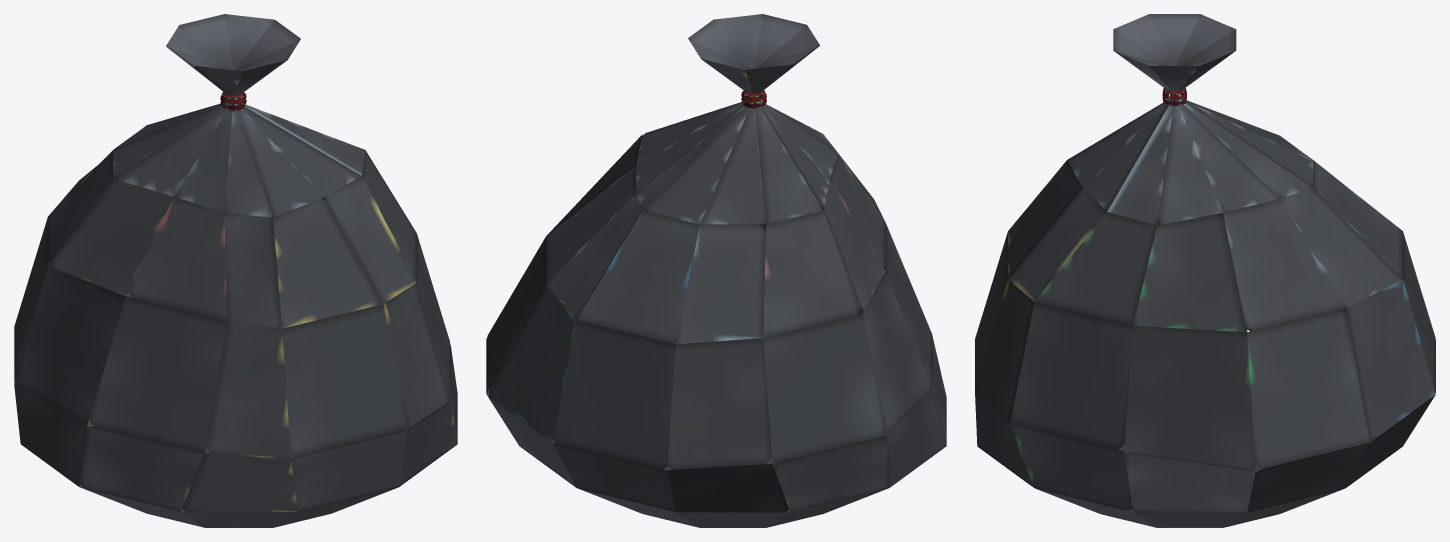
The model's file is trash_bag.obj.
The picture shows the model from 3 angles, left to right: view 1: azimuth 30°, elevation 25°; view 2: azimuth 150°, elevation 25°; view 3: azimuth 270°, elevation 25°; orthographic projection. The views are drawn at different scales.
Parts seen in each view (by area): view 1: sphere, cone; view 2: sphere, cone; view 3: sphere, cone.
Boxes of the visible parts, x1,y1,x2,y2 form: sphere: [14, 102, 457, 527]; cone: [166, 14, 300, 95]; sphere: [486, 101, 946, 527]; cone: [688, 14, 819, 93]; sphere: [975, 98, 1435, 527]; cone: [1113, 14, 1236, 91].
Bounding box in the file's own units: 0.4688 × 0.4844 × 0.4688.
Materials: 1 (1 with a texture image).
